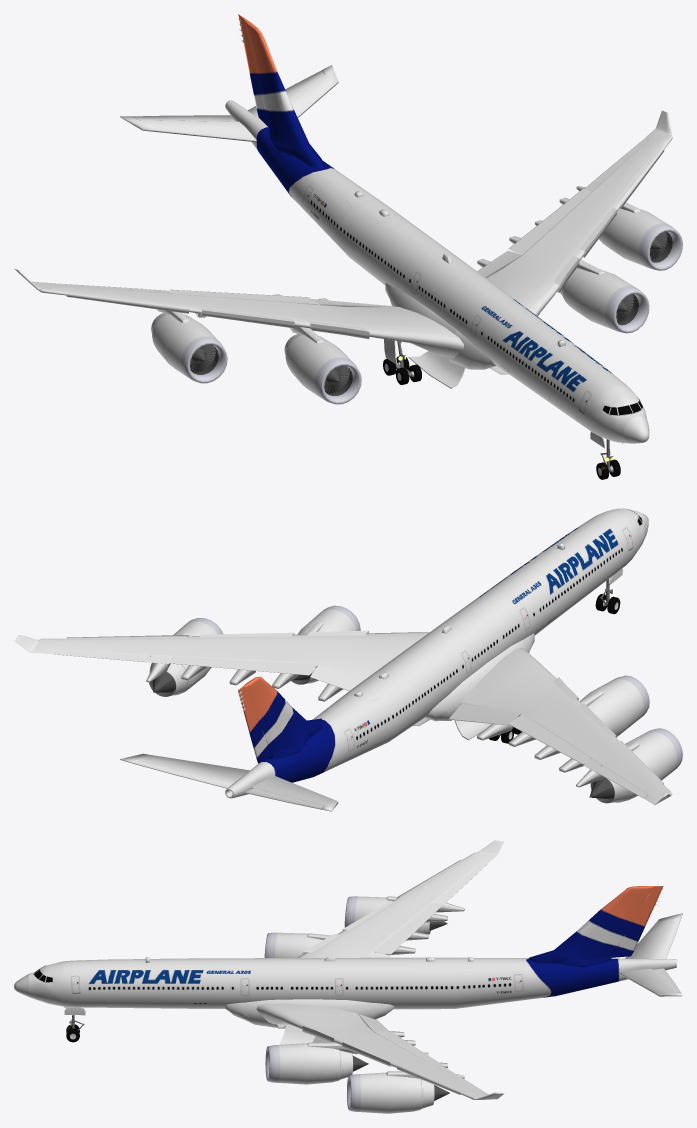
The model's file is Plane Open Wheel.fbx.
The picture shows the model from 3 angles, top to bottom: view 1: azimuth 30°, elevation 25°; view 2: azimuth 150°, elevation 25°; view 3: azimuth 270°, elevation 25°; orthographic projection. The views are drawn at different scales.
Parts seen in each view (by area): view 1: Plane body, thruster_1.L, thruster_2.L, thruster_1.R, thruster_2.R, mid wheel flap.R; view 2: Plane body, thruster_2.R, thruster_1.R, thruster_2.L, thruster_1.L; view 3: Plane body, thruster_1.L, thruster_2.L, thruster_1.R, thruster_2.R, mid wheel flap.L.
Part boxes in pixels (x1,y1,x2,y2): Plane body: (14,14,672,443); thruster_1.L: (560,268,649,333); thruster_2.L: (599,208,682,270); thruster_1.R: (284,334,361,404); thruster_2.R: (151,313,227,383); mid wheel flap.R: (408,351,465,388); Plane body: (14,508,672,811); thruster_2.R: (589,728,682,803); thruster_1.R: (579,675,649,736); thruster_2.L: (149,618,223,696); thruster_1.L: (291,605,360,684); Plane body: (14,840,682,1099); thruster_1.L: (265,1043,368,1084); thruster_2.L: (347,1072,449,1113); thruster_1.R: (264,932,322,957); thruster_2.R: (344,896,447,934); mid wheel flap.L: (279,1024,330,1044).
Size of the model in its own units: 5182 by 1469 by 5795.
Materials: 1 (1 with a texture image).
